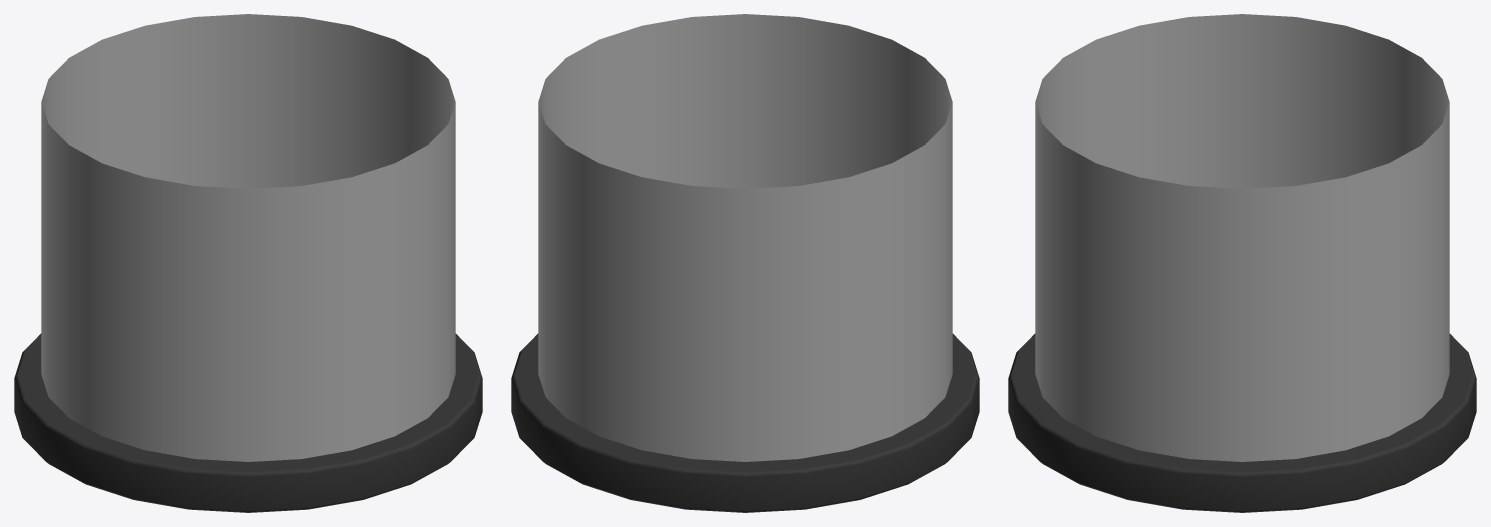
Rendered from obstacle_14_003.fbx.
The picture shows the model from 3 angles, left to right: view 1: azimuth 30°, elevation 25°; view 2: azimuth 150°, elevation 25°; view 3: azimuth 270°, elevation 25°; orthographic projection.
Parts seen in each view (by area): view 1: obstacle_14_003; view 2: obstacle_14_003; view 3: obstacle_14_003.
Boxes of the visible parts, x1,y1,x2,y2 form: obstacle_14_003: (14,14,482,512); obstacle_14_003: (511,14,979,512); obstacle_14_003: (1008,14,1476,512).
Bounding box in the file's own units: 348 × 348 × 258.
